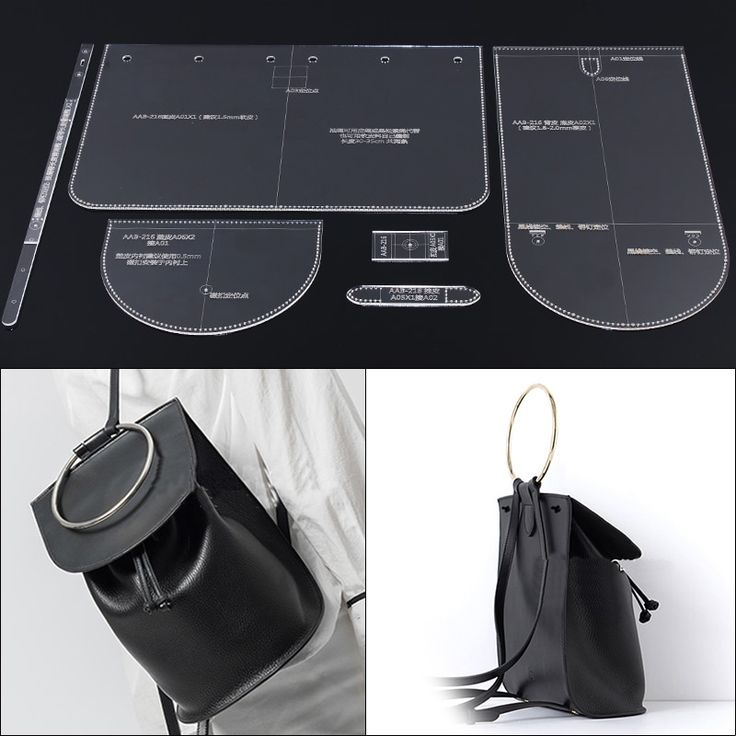cuero: (31, 367, 660, 723)
